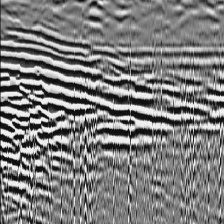cavities: (0, 30, 159, 201)
